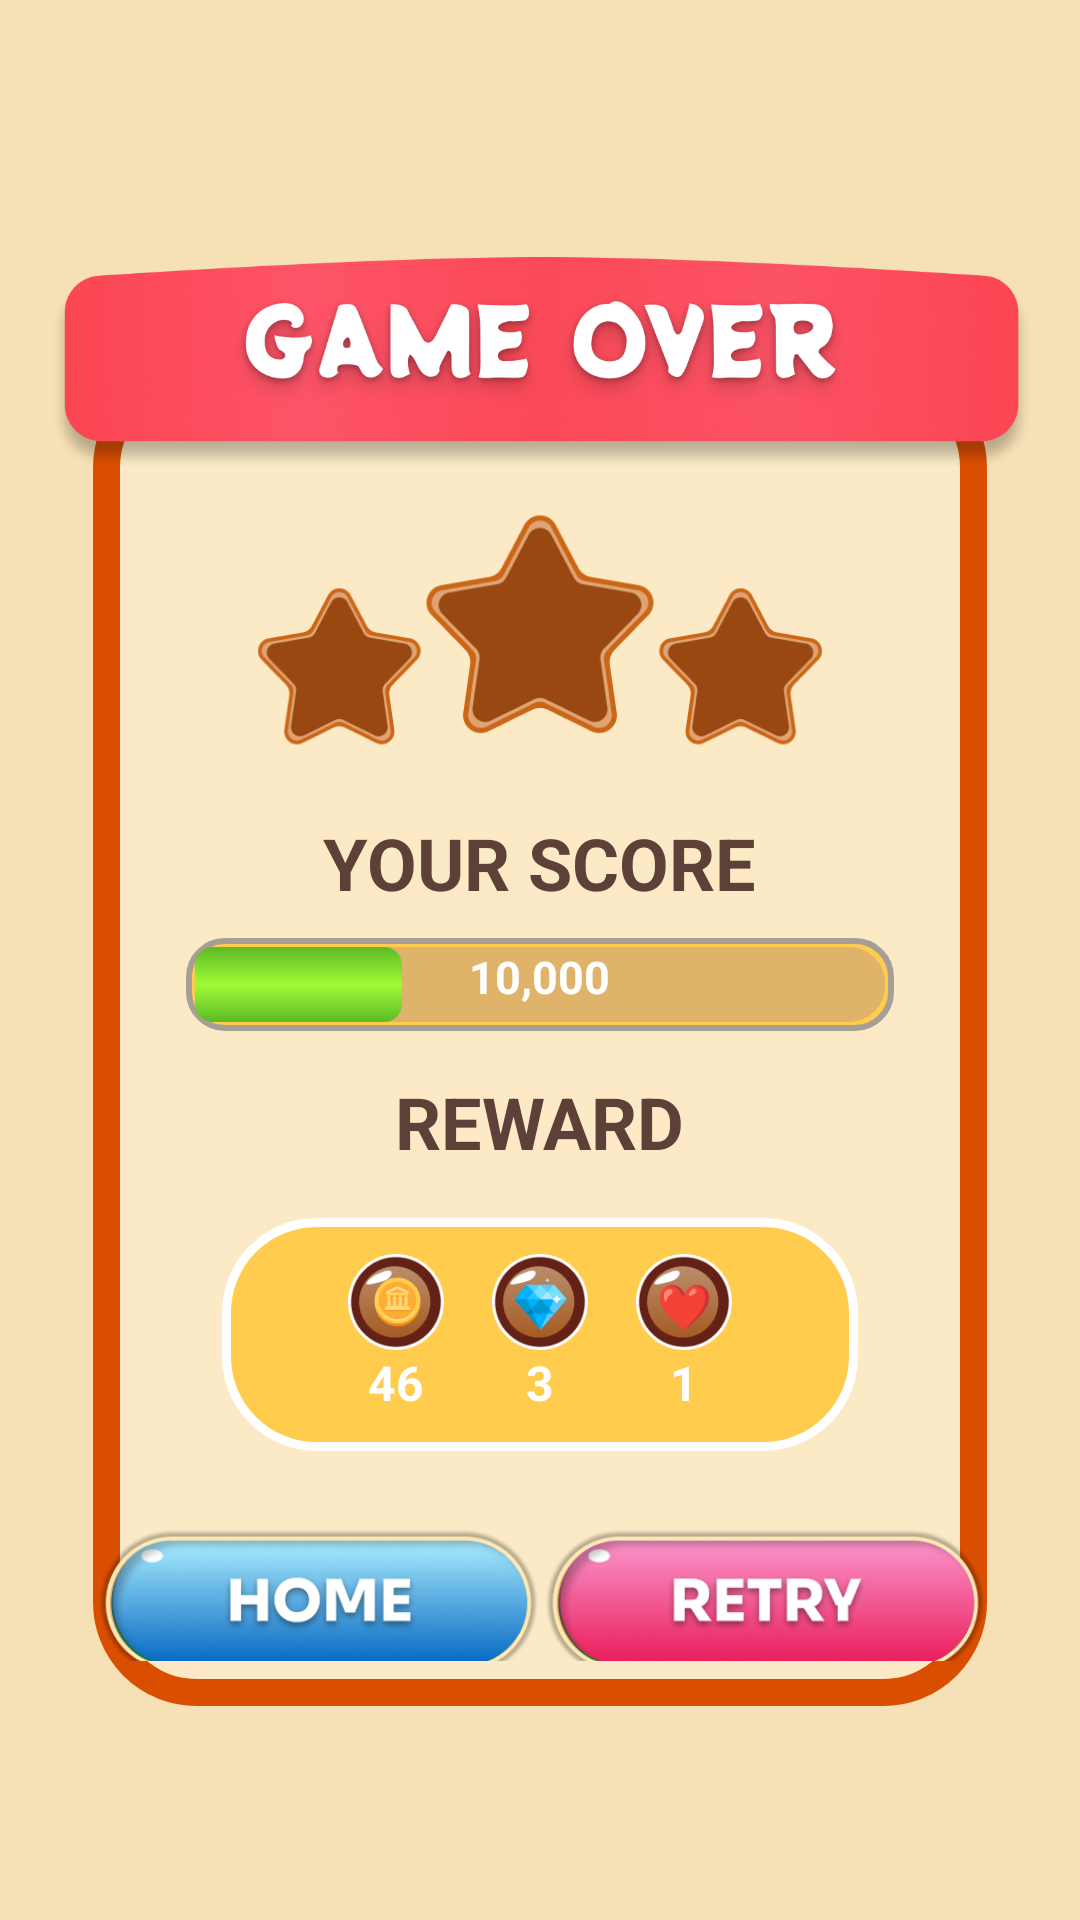

Where icons sit on this 1080x1920 app screen, as Rect(x1, y1, x2, y2):
coin: Rect(348, 1254, 444, 1350)
diamond coin: Rect(492, 1254, 588, 1350)
love coin: Rect(636, 1254, 732, 1350)
